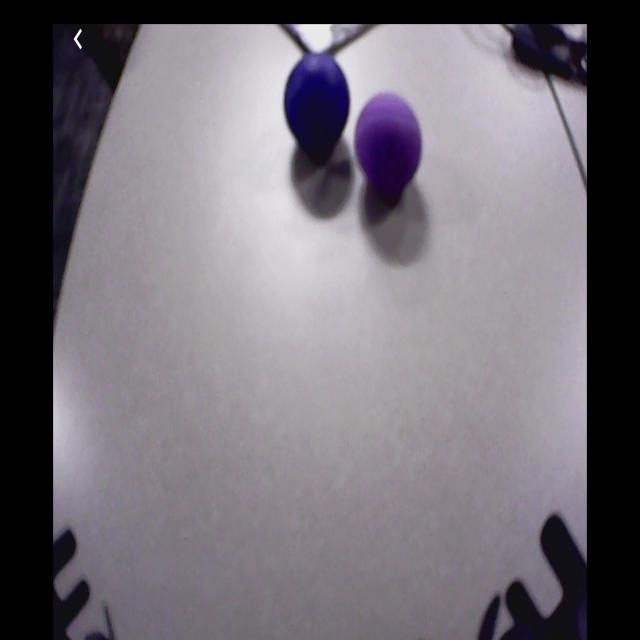ball: (357, 93, 423, 198), (285, 54, 351, 150)
